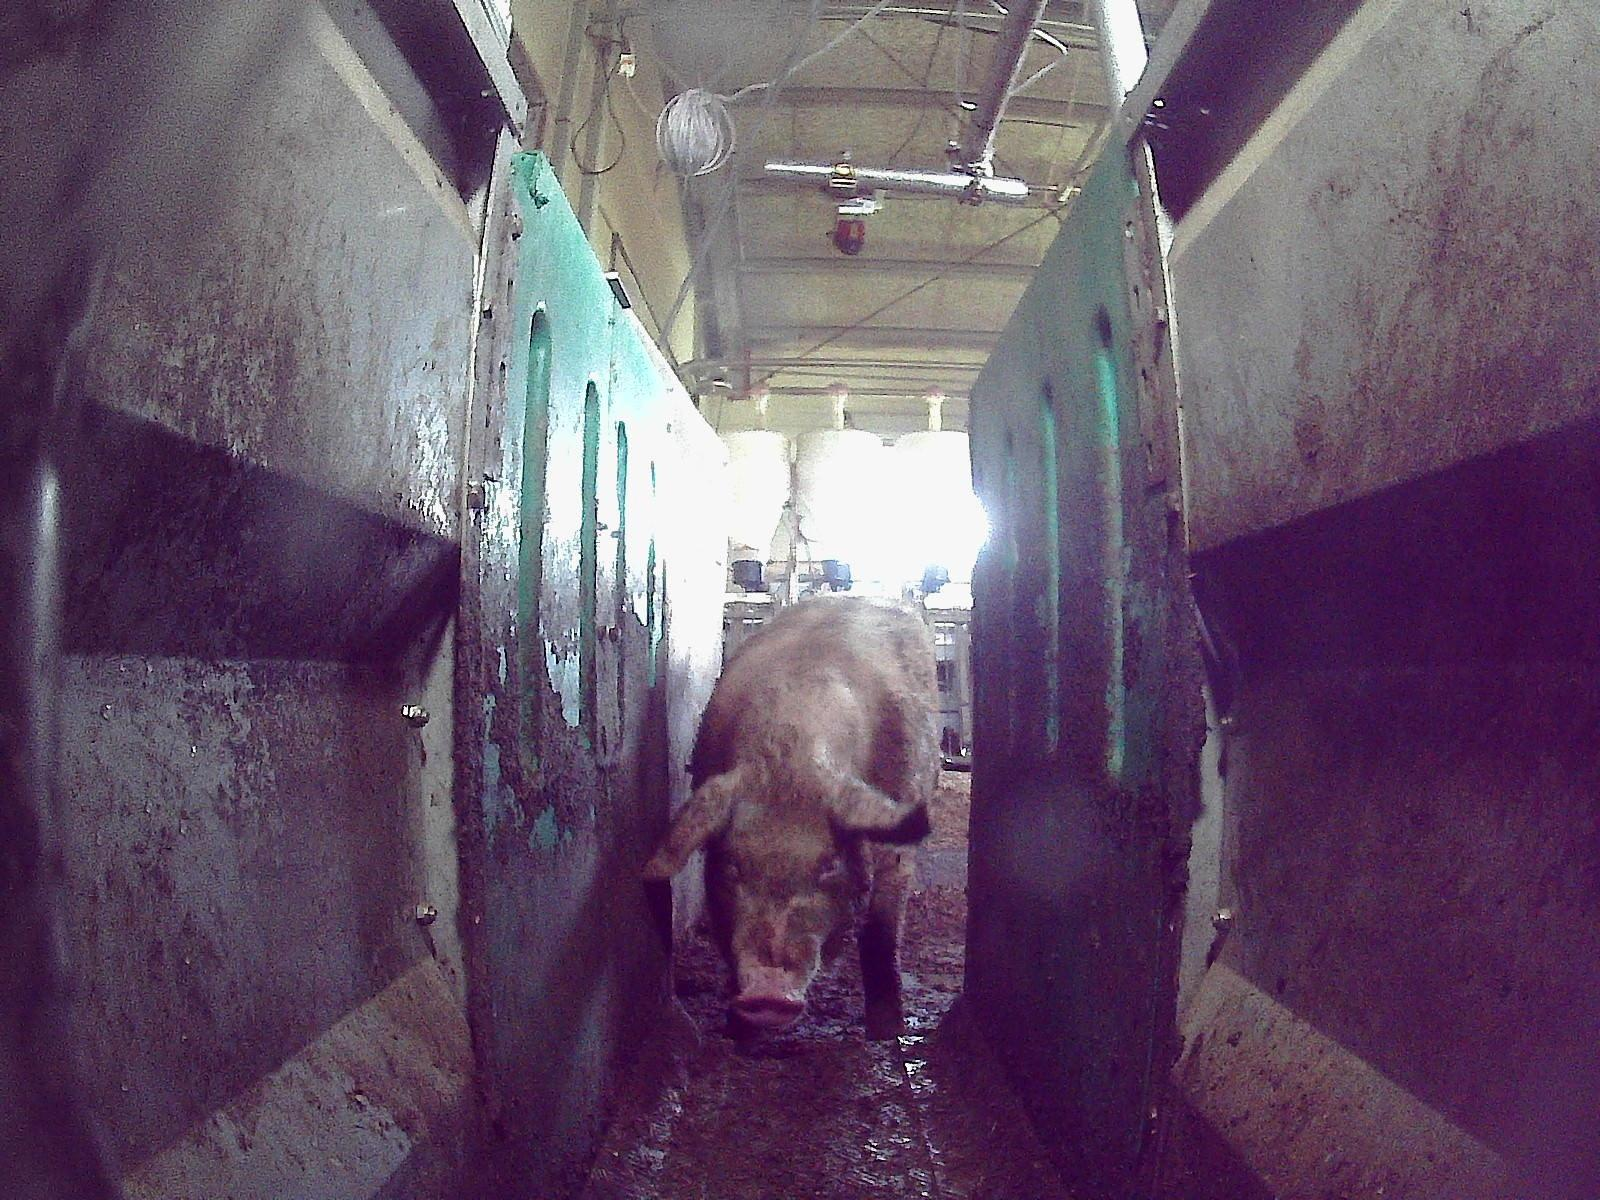Face: (706, 759, 870, 1024)
